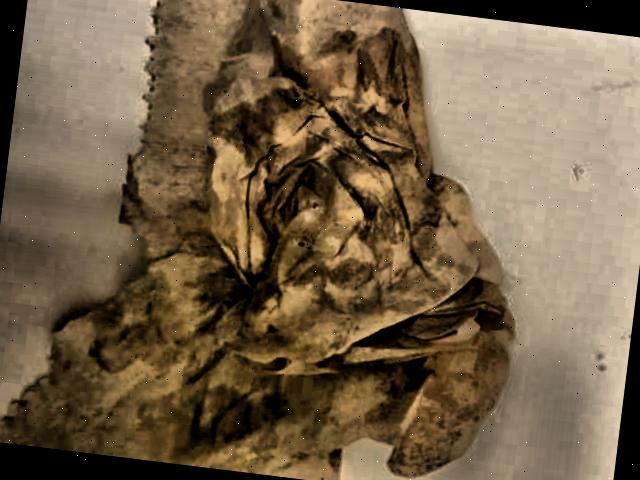Paper: (1, 0, 553, 480)
